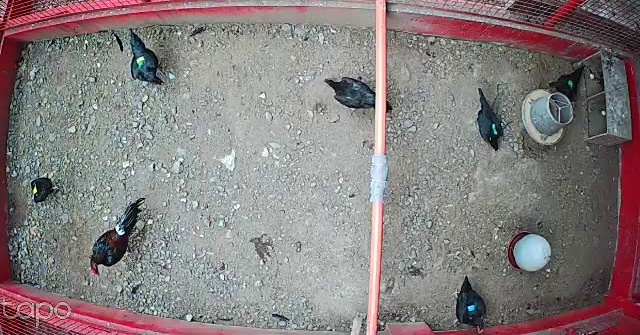Chicken: (321, 71, 394, 114), (473, 84, 508, 155), (125, 26, 165, 87), (451, 278, 488, 335), (544, 59, 588, 100), (28, 175, 64, 207)
Rooster: (86, 197, 150, 278)
Saddle_Color_Blue: (468, 305, 476, 311)
Saddle_Color_Yellow: (33, 186, 39, 195)
Saddle_Color_YellowGreen: (135, 55, 145, 68)
